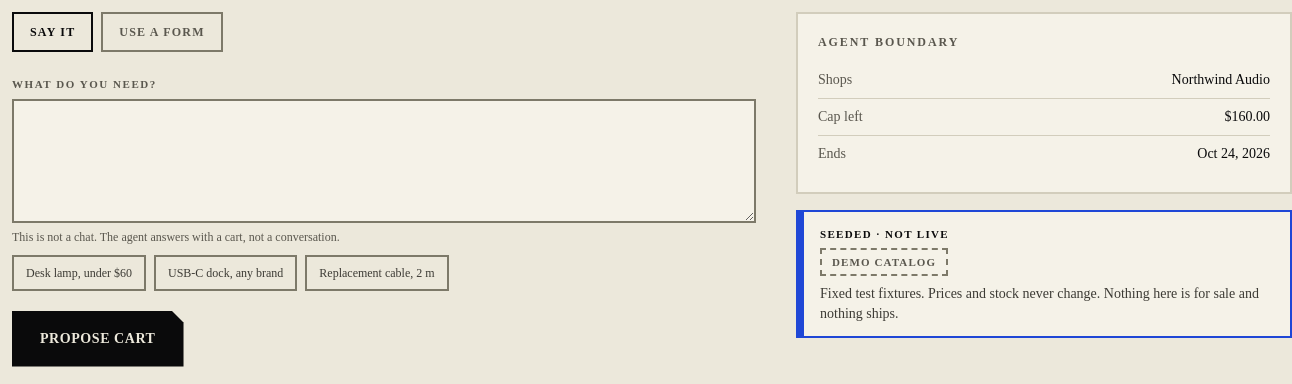
Test: IntentForm › fills the box from an example
The width and height of the screenshot is (1292, 384).
Click the button "Desk lamp, under $60" at (79, 272), box [12,254,146,290]
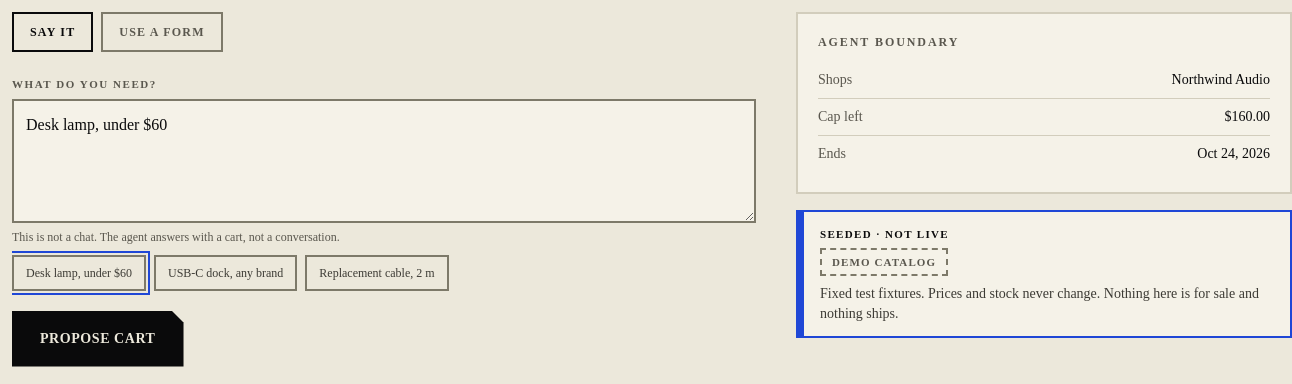
Check: the text box labelled "What do you need?" holds "Desk lamp, under $60", box [12,98,756,222]
